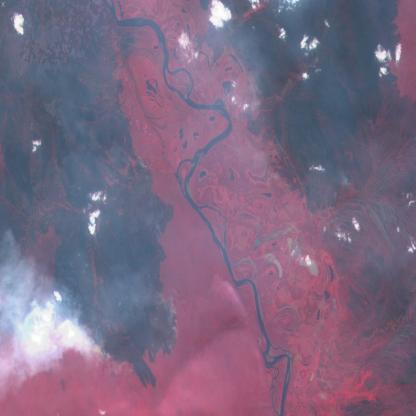fire: (66, 88, 175, 375), (229, 99, 351, 209)
